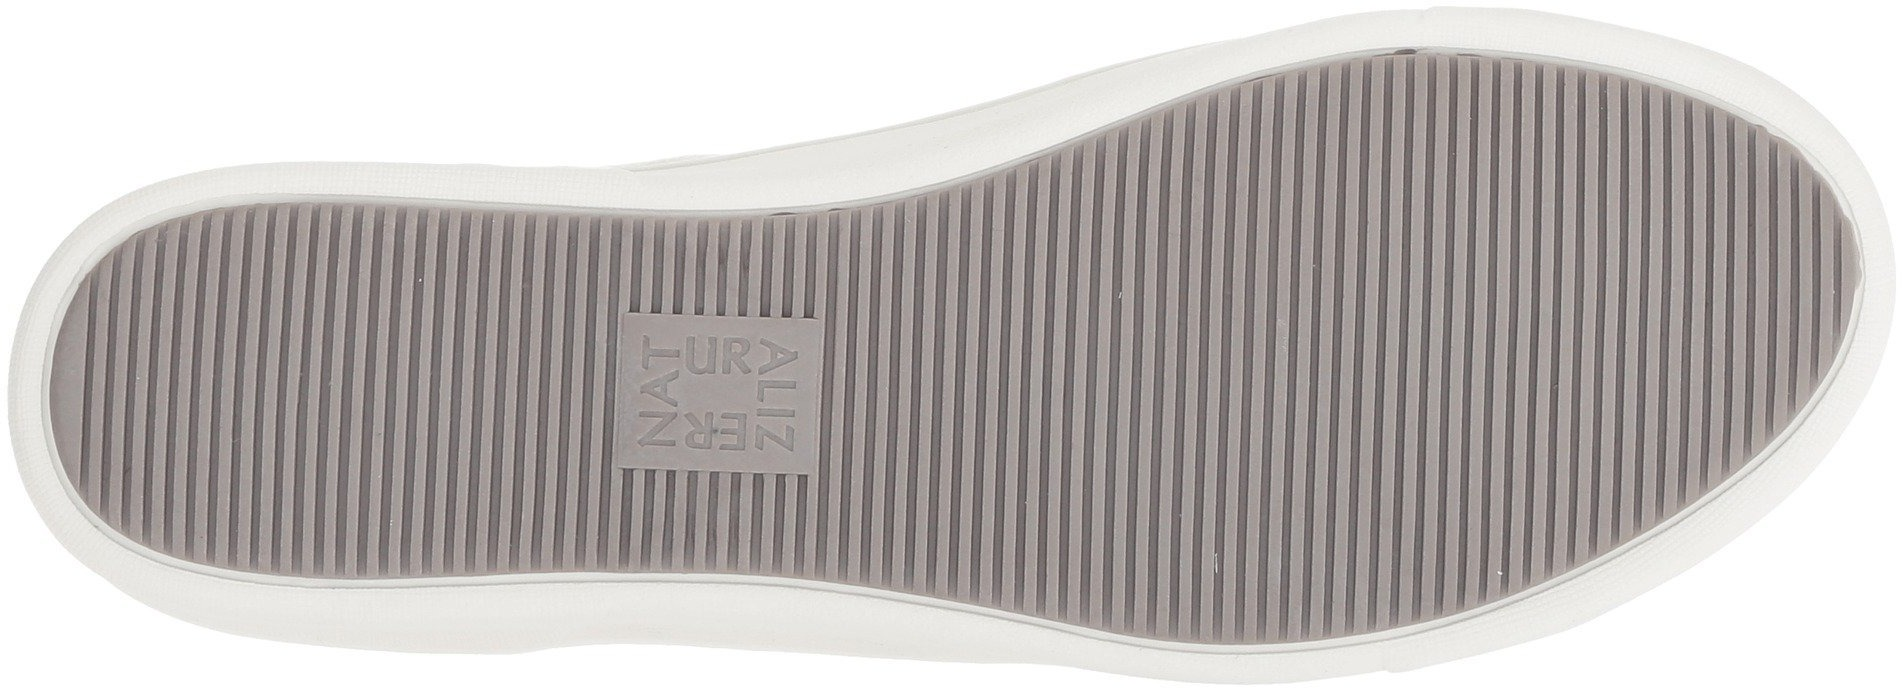line: (1141, 133, 1463, 426), (1473, 113, 1771, 420), (848, 221, 1121, 523), (123, 254, 386, 516), (400, 217, 611, 430), (600, 311, 831, 501), (1202, 430, 1410, 630), (1420, 437, 1581, 576)
quad: (600, 311, 831, 501)
text: (600, 311, 831, 501), (633, 322, 797, 474)
